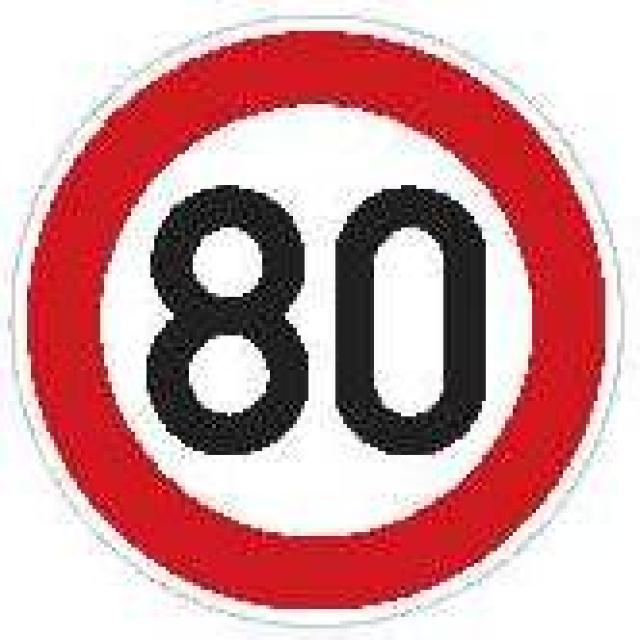Speed Limit -80-: (147, 181, 488, 456)
